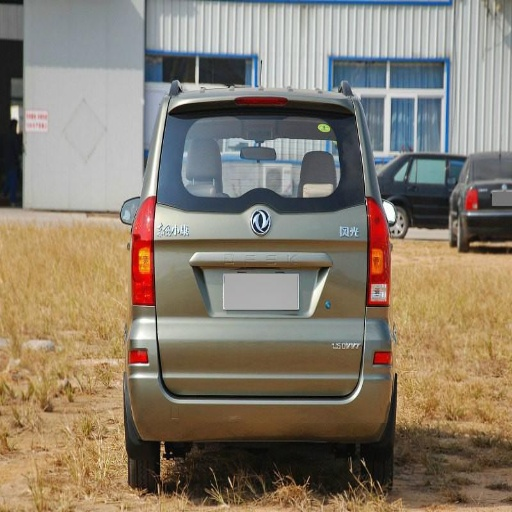back_bumper: (131, 309, 397, 442)
tailgate: (217, 279, 270, 313)
trunk: (134, 198, 371, 395)
